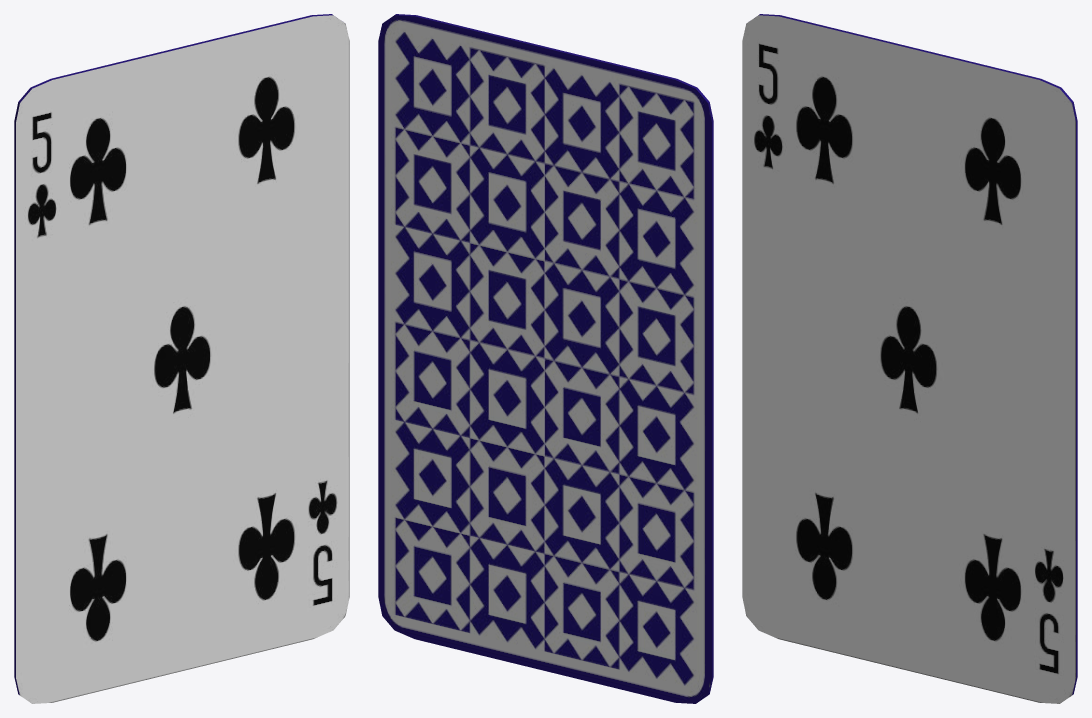
The picture shows the model from 3 angles, left to right: view 1: azimuth 30°, elevation 25°; view 2: azimuth 150°, elevation 25°; view 3: azimuth 330°, elevation 25°; orthographic projection.
Visible parts, largest first — view 1: Five of Clubs; view 2: Five of Clubs; view 3: Five of Clubs.
Boxes of the visible parts, x1,y1,x2,y2 form: Five of Clubs: (14,14,349,703); Five of Clubs: (378,14,713,703); Five of Clubs: (742,14,1077,703).
Size of the model in its own units: 1.43 by 2.54 by 0.0125.
Materials: 3 (3 with a texture image).
